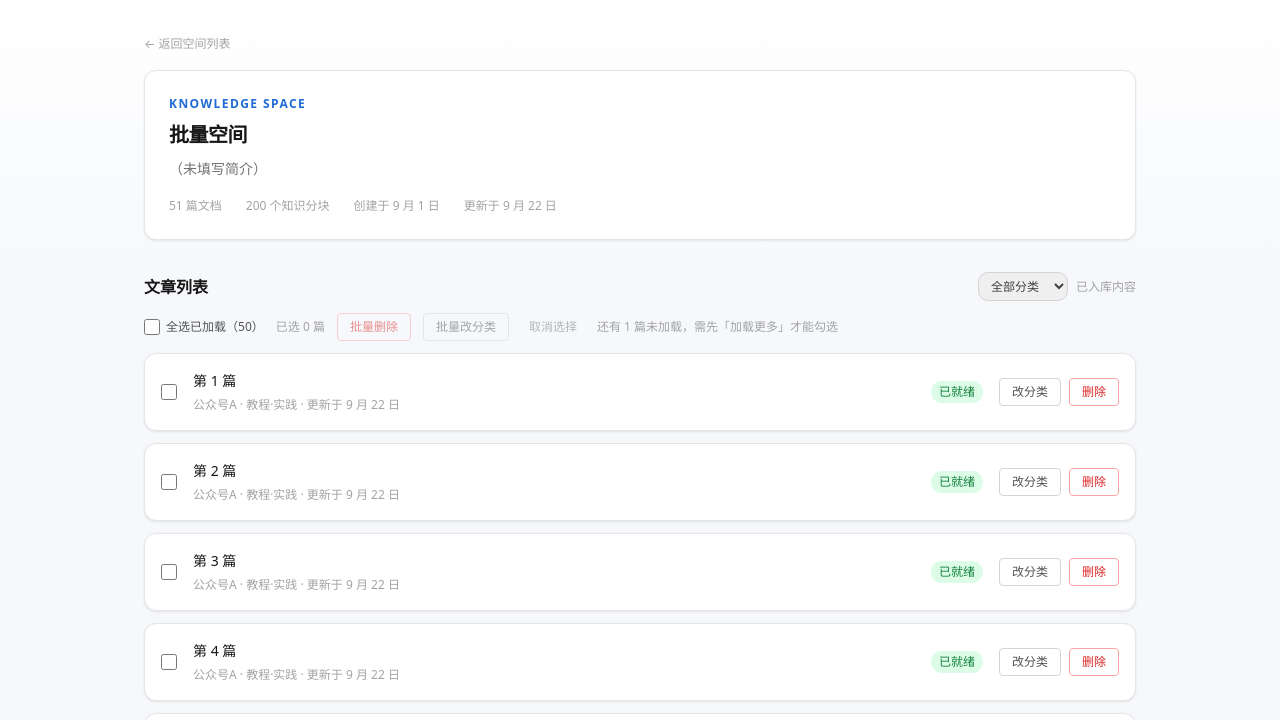
Test: R0.2.6 与 R0.1.3 服务端分页共存：跨页多选 › 加载更多不丢勾选，「全选已加载」呈半选态
The width and height of the screenshot is (1280, 720).
Click the checkbox named "选择文章：第 3 篇" at (169, 572), box [161,564,177,580]
(page scrolled)
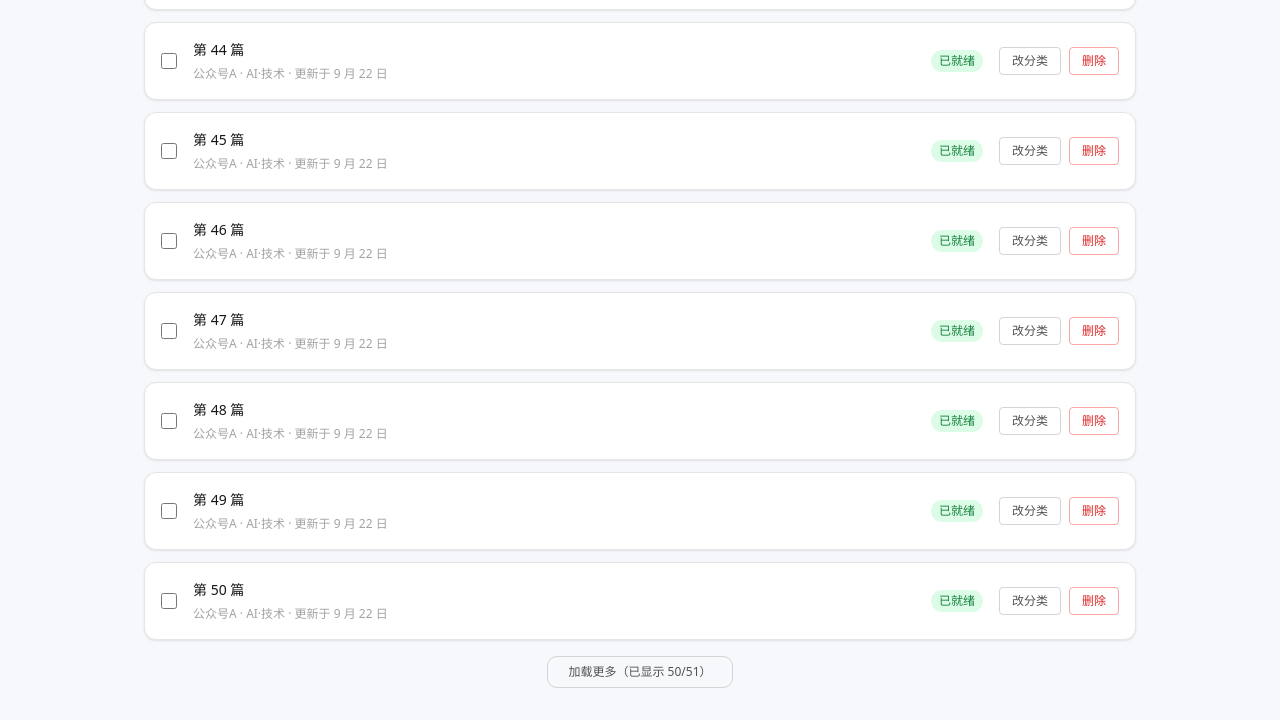
Click the checkbox named "选择文章：第 50 篇" at (169, 601), box [161,593,177,609]
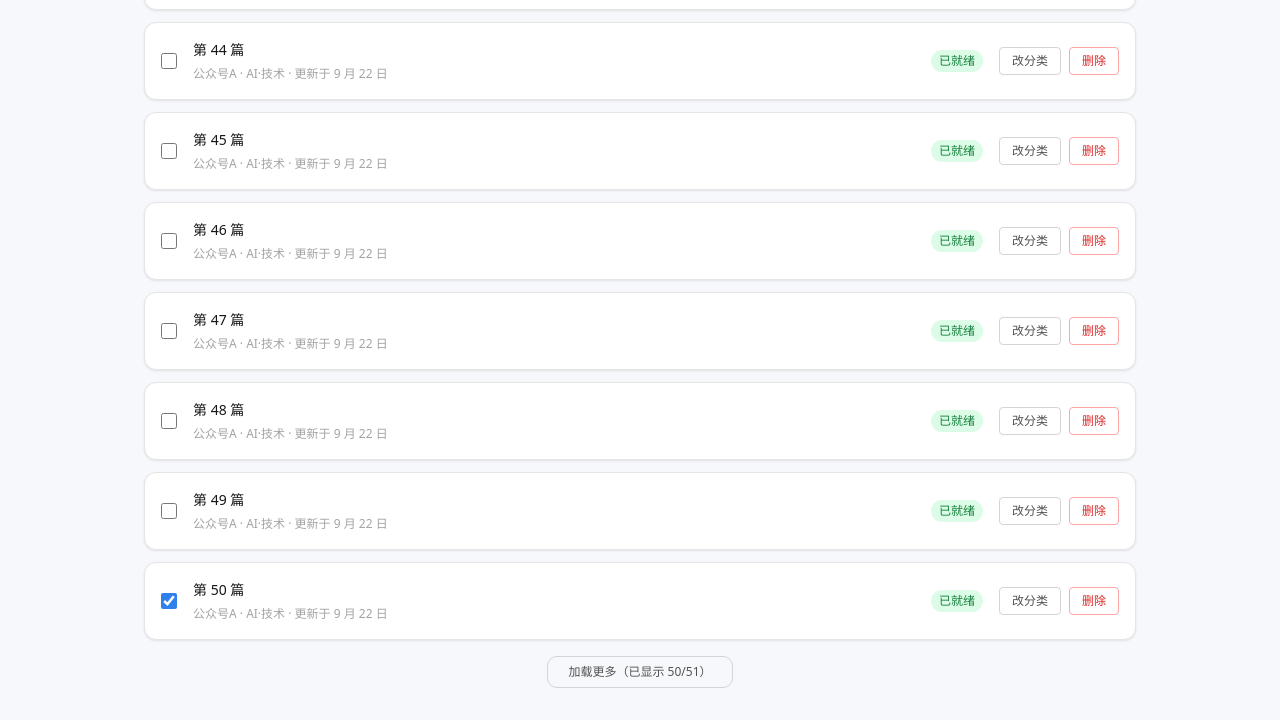
Click the button "加载更多（已显示 50/51）" at (640, 672), box [548,656,732,688]
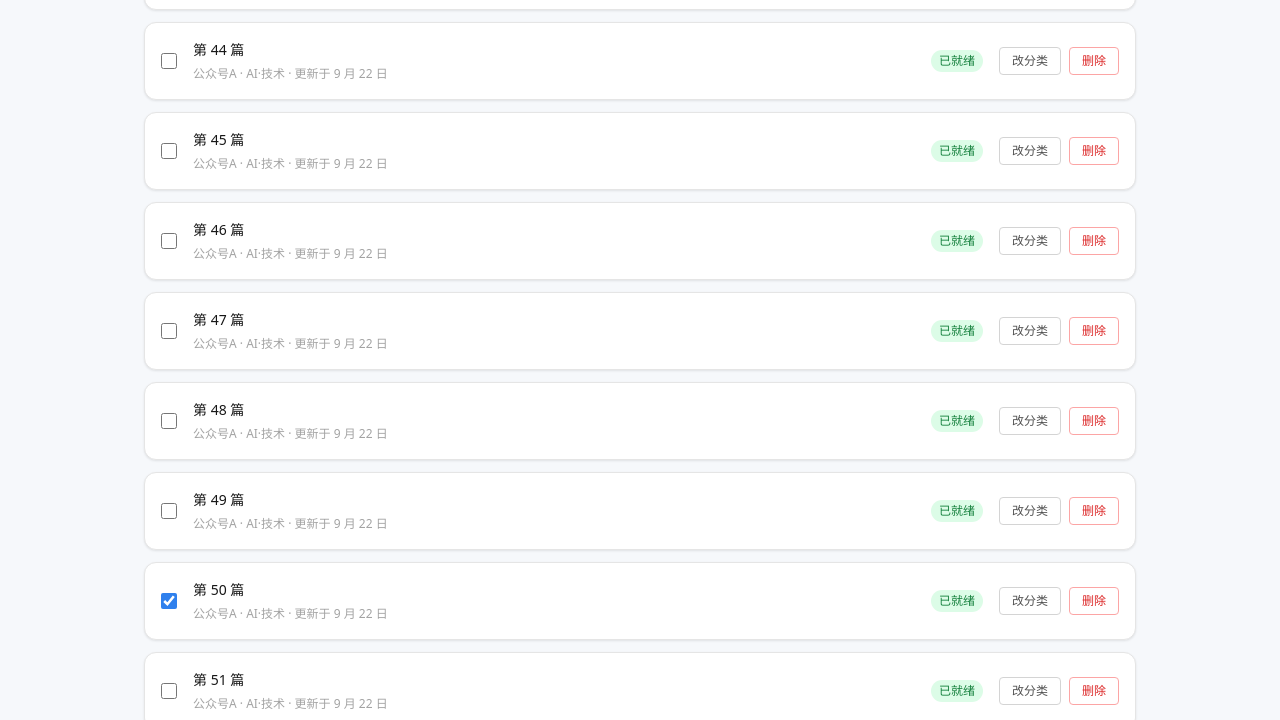
expect the text "第 51 篇" is shown: met, box [193,670,244,689]
